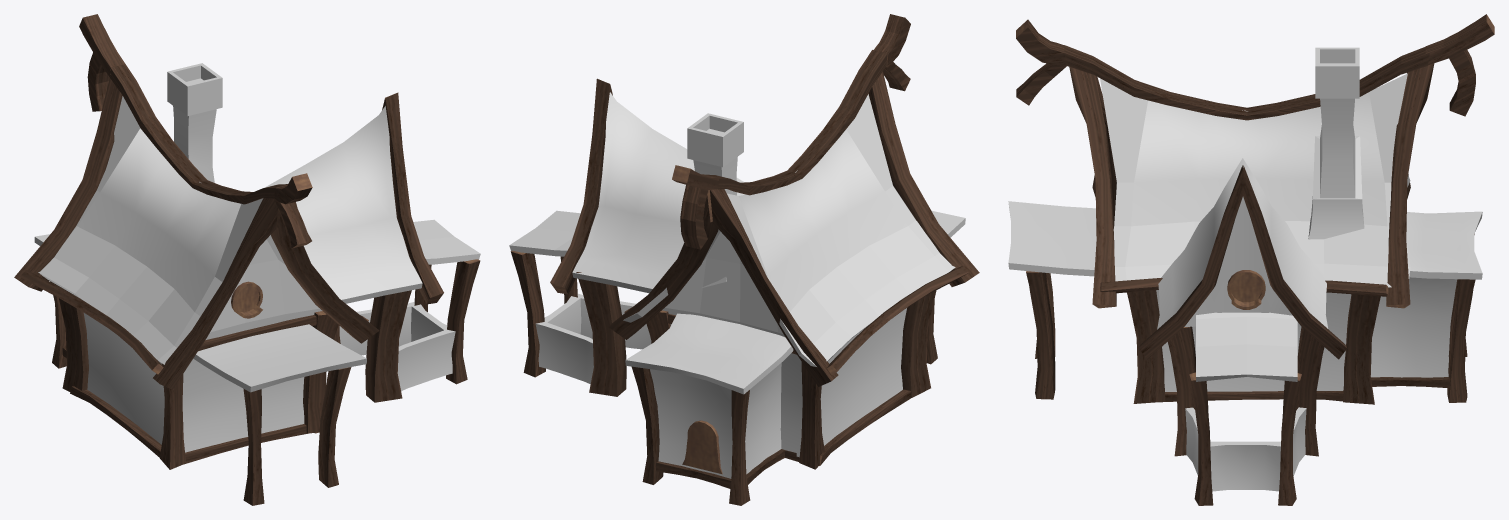
Rendered from Market3.fbx.
3 views of the same model, side by side, from view 1: azimuth 30°, elevation 25°; view 2: azimuth 150°, elevation 25°; view 3: azimuth 270°, elevation 25° (orthographic). The views are drawn at different scales.
Parts seen in each view (by area): view 1: Box1352, Object1682, Object1831, Object1692, Box1476, Object1685, Object1679, Object1681, Box1351, Object1690, Object1668, Object1691 (+15 smaller); view 2: Box1352, Object1831, Object1682, Object1836, Object1695, Object1685, Object1679, Box1351, Object1681, Object1687, Object1684, Box1476 (+13 smaller); view 3: Box1352, Box1476, Object1831, Object1836, Object1833, Object1692, Box1351, Object1668, Object1680, Object1685, Object1695, Object1682 (+17 smaller).
Boxes of the visible parts, x1,y1,x2,y2 form: Box1352: [38, 96, 290, 364]; Object1682: [81, 239, 322, 452]; Object1831: [265, 106, 422, 303]; Object1692: [193, 324, 366, 392]; Box1476: [167, 63, 222, 182]; Object1685: [339, 302, 455, 391]; Object1679: [153, 198, 277, 389]; Object1681: [14, 78, 122, 291]; Box1351: [110, 64, 287, 204]; Object1690: [365, 290, 411, 402]; Object1668: [271, 208, 379, 343]; Object1691: [385, 93, 443, 304]; Box1352: [623, 94, 955, 366]; Object1831: [572, 92, 745, 293]; Object1682: [662, 232, 906, 457]; Object1836: [650, 363, 781, 478]; Object1695: [625, 313, 793, 394]; Object1685: [535, 293, 651, 384]; Object1679: [869, 71, 979, 286]; Box1351: [706, 50, 887, 195]; Object1681: [710, 189, 838, 386]; Object1687: [576, 272, 626, 396]; Object1684: [550, 79, 609, 294]; Box1476: [687, 113, 743, 287]; Box1352: [1100, 73, 1410, 287]; Box1476: [1308, 47, 1364, 239]; Object1831: [1157, 158, 1328, 329]; Object1836: [1370, 277, 1457, 377]; Object1833: [1196, 312, 1297, 381]; Object1692: [1008, 201, 1096, 276]; Box1351: [1064, 45, 1429, 120]; Object1668: [1069, 67, 1116, 308]; Object1680: [1386, 63, 1434, 308]; Object1685: [1185, 407, 1306, 491]; Object1695: [1406, 211, 1482, 279]; Object1682: [1156, 290, 1351, 391].
Size of the model in its own units: 775 by 660 by 811.
